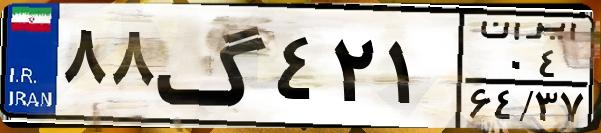0: (508, 27, 537, 80)
1: (385, 28, 445, 110)
2: (330, 28, 385, 110)
3: (535, 70, 560, 125)
4: (270, 28, 330, 110), (537, 27, 568, 80), (495, 70, 520, 125)
6: (470, 70, 495, 125)
7: (560, 70, 590, 125)
8: (57, 26, 110, 100), (110, 28, 156, 98)
گ: (156, 12, 270, 120)
